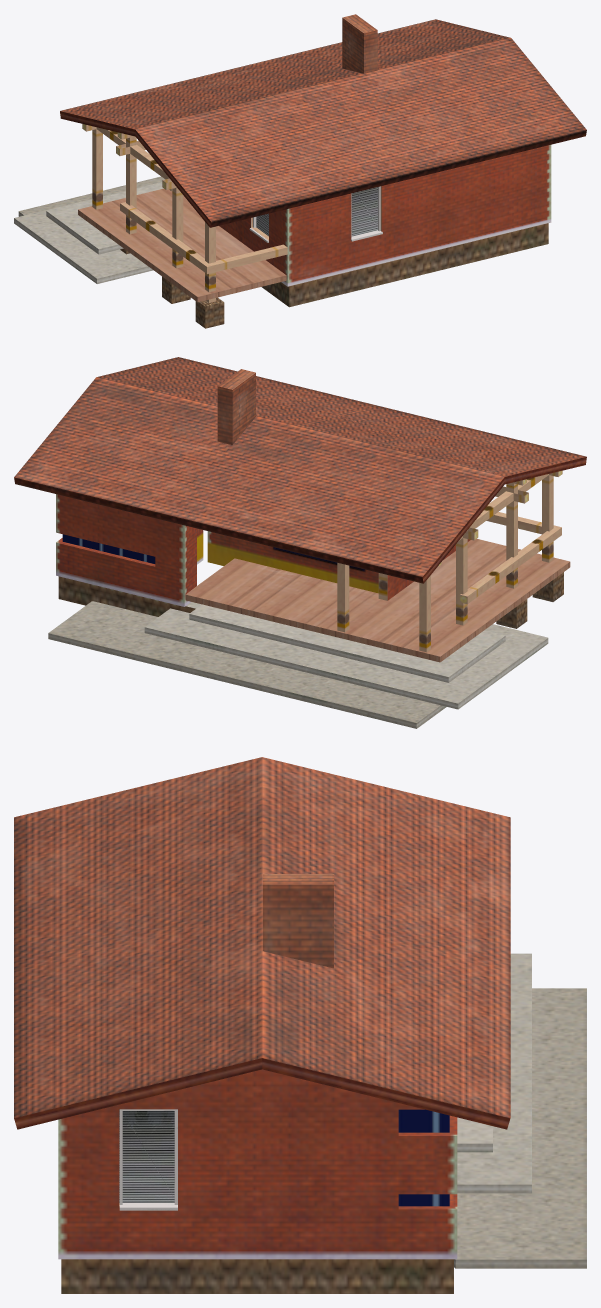
File: house.obj
3 views of the same model, one above another, from view 1: azimuth 30°, elevation 25°; view 2: azimuth 150°, elevation 25°; view 3: azimuth 270°, elevation 25° (orthographic). The views are drawn at different scales.
Parts seen in each view (by area): view 1: House_24 polySurface3, House_24 polySurface25, House_24 polySurface17, PLINTH01 House_24, House_24 polySurface16, House_24 polySurface110 polySurface119, House_24 polySurface15, House_24 HORMI01, House_24 polySurface116, House_24 polySurface110 polySurface123, House_24 polySurface110 polySurface120, House_24 polySurface19 (+3 smaller); view 2: House_24 polySurface3, House_24 polySurface17, House_24 polySurface19, House_24 polySurface25, House_24 polySurface16, House_24 polySurface15, House_24 pPlane1, PLINTH01 House_24, House_24 HORMI01, House_24 polySurface110 polySurface119, House_24 polySurface110 polySurface121, House_24 polySurface110 polySurface120 (+5 smaller); view 3: House_24 polySurface3, House_24 polySurface25, House_24 polySurface19, PLINTH01 House_24, House_24 polySurface16, House_24 HORMI01, House_24 polySurface116, House_24 polySurface28, House_24 polySurface15.
Part boxes in pixels (<box>): House_24 polySurface3: <box>60,19,586,227</box>; House_24 polySurface25: <box>219,145,551,286</box>; House_24 polySurface17: <box>78,188,286,302</box>; PLINTH01 House_24: <box>120,223,548,328</box>; House_24 polySurface16: <box>14,182,162,283</box>; House_24 polySurface110 polySurface119: <box>120,202,287,273</box>; House_24 polySurface15: <box>46,183,163,254</box>; House_24 HORMI01: <box>342,14,377,73</box>; House_24 polySurface116: <box>249,186,382,242</box>; House_24 polySurface110 polySurface123: <box>92,129,102,209</box>; House_24 polySurface110 polySurface120: <box>126,135,136,234</box>; House_24 polySurface19: <box>18,176,164,216</box>; House_24 polySurface3: <box>14,357,586,583</box>; House_24 polySurface17: <box>185,539,570,662</box>; House_24 polySurface19: <box>48,601,446,728</box>; House_24 polySurface25: <box>56,494,470,606</box>; House_24 polySurface16: <box>144,602,548,709</box>; House_24 polySurface15: <box>189,604,505,682</box>; House_24 pPlane1: <box>207,531,378,593</box>; PLINTH01 House_24: <box>58,572,563,628</box>; House_24 HORMI01: <box>217,369,255,444</box>; House_24 polySurface110 polySurface119: <box>460,512,561,604</box>; House_24 polySurface110 polySurface121: <box>506,482,517,588</box>; House_24 polySurface110 polySurface120: <box>456,530,467,625</box>; House_24 polySurface3: <box>14,757,510,1129</box>; House_24 polySurface25: <box>58,1069,457,1259</box>; House_24 polySurface19: <box>454,988,586,1268</box>; PLINTH01 House_24: <box>61,1259,453,1293</box>; House_24 polySurface16: <box>457,953,531,1193</box>; House_24 HORMI01: <box>262,874,333,968</box>; House_24 polySurface116: <box>119,1109,177,1210</box>; House_24 polySurface28: <box>398,1109,449,1206</box>; House_24 polySurface15: <box>457,1117,492,1152</box>.
Bounding box in the file's own units: 2.23 × 1.01 × 1.63.
Materials: 1 (1 with a texture image).
